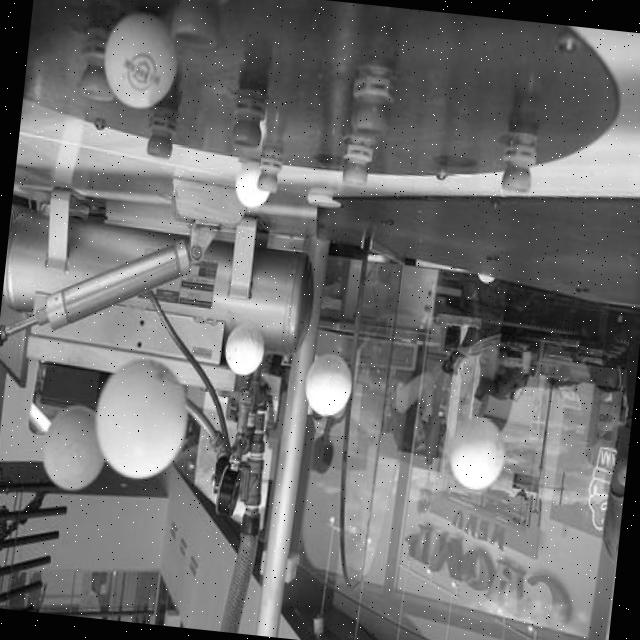ping-pong-ball: (89, 354, 191, 484), (98, 8, 182, 113), (35, 398, 110, 494), (443, 413, 508, 493), (300, 348, 352, 416), (221, 320, 266, 376)
